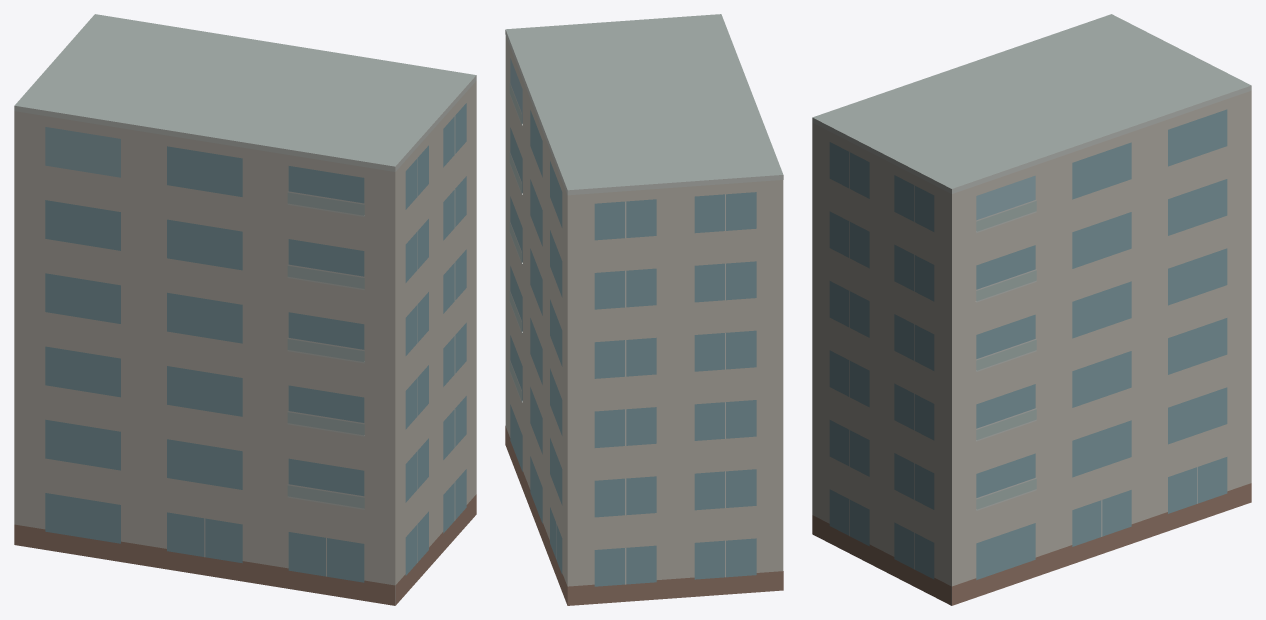
Rendered from survey-upis-32955520.glb.
3 renders of one model, left to right at view 1: azimuth 30°, elevation 25°; view 2: azimuth 150°, elevation 25°; view 3: azimuth 270°, elevation 25°, orthographic. The views are drawn at different scales.
Parts seen in each view (by area): view 1: survey-upis-32955520.tmp; view 2: survey-upis-32955520.tmp; view 3: survey-upis-32955520.tmp.
Part boxes in pixels (box(x1,y1,x2,y2)): survey-upis-32955520.tmp: box(14, 14, 476, 605); survey-upis-32955520.tmp: box(505, 14, 783, 605); survey-upis-32955520.tmp: box(812, 14, 1251, 605).
Bounding box in the file's own units: 17.88 × 19.85 × 18.97.
